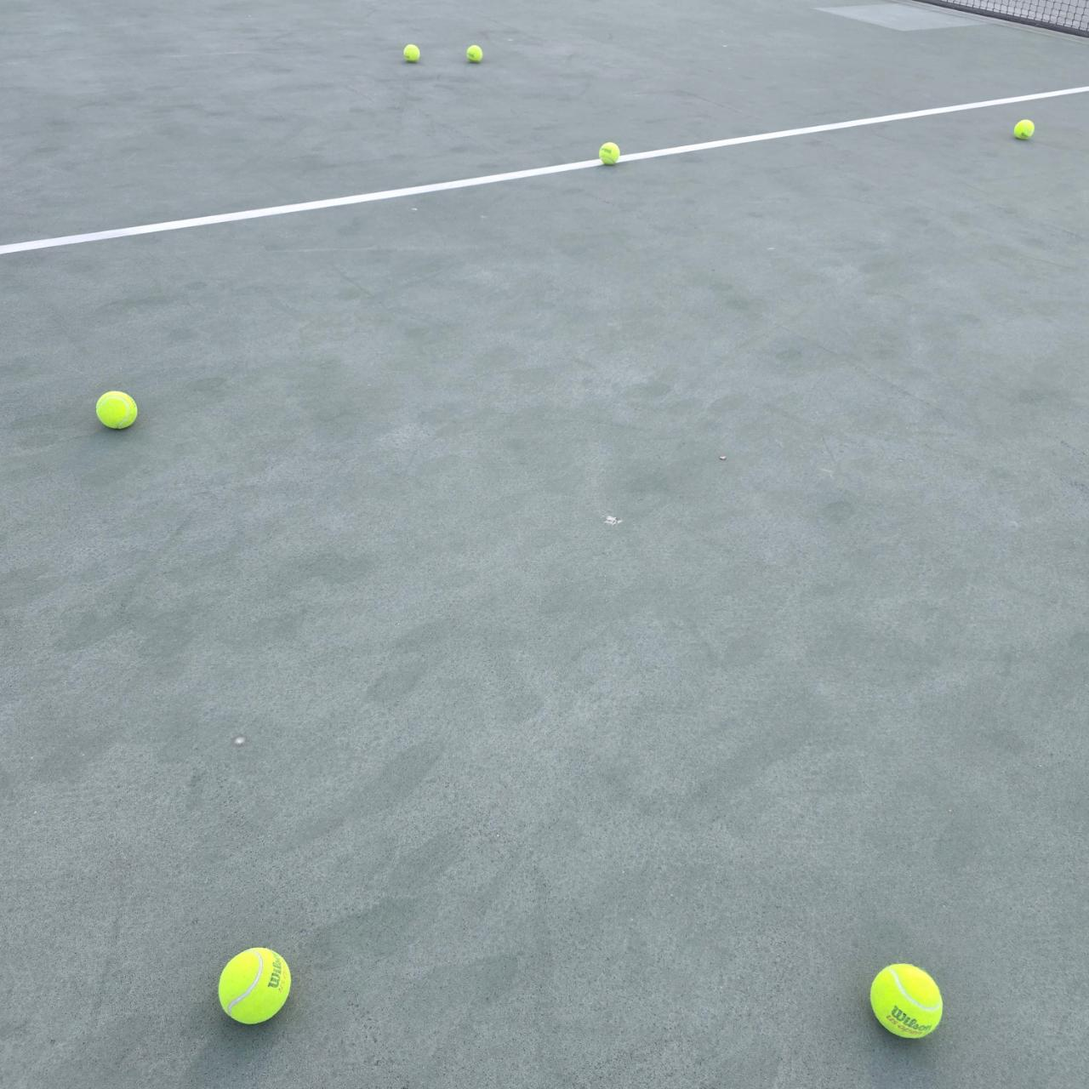tennis-ball: (215, 944, 292, 1025), (868, 961, 944, 1040), (94, 388, 139, 430), (597, 140, 619, 165), (1012, 117, 1035, 140), (402, 42, 421, 63), (465, 43, 483, 63)
